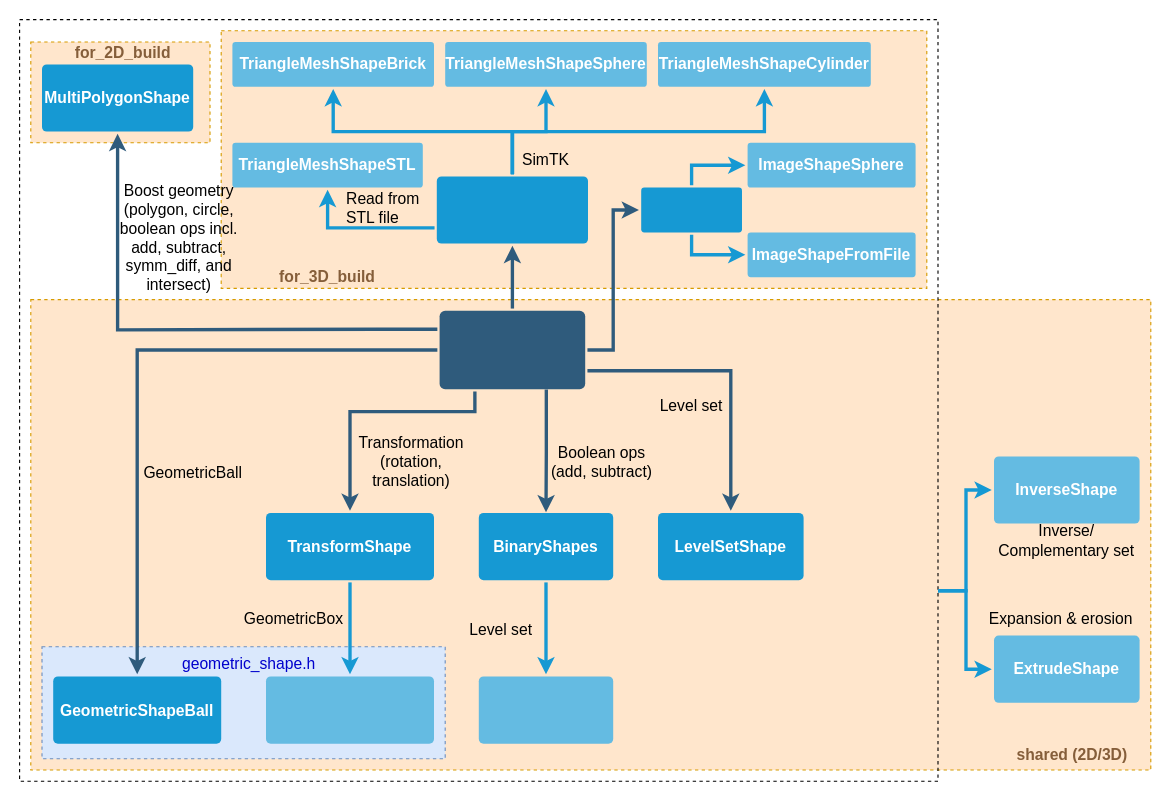
The diagram is 1170 pixels wide and 801 high, and some of its shapes have lost their labels. The centre of each missing label's shape, as x and y in pixels:
ComplexShape: the point at 545,709
GeometricShapeBox: the point at 349,709
ImageShape: the point at 691,209
Shape: the point at 512,349
TriangleMeshShape: the point at 511,209
